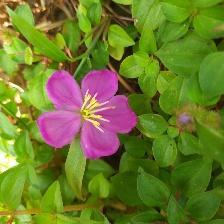malabar melastome: (38, 62, 140, 165)
